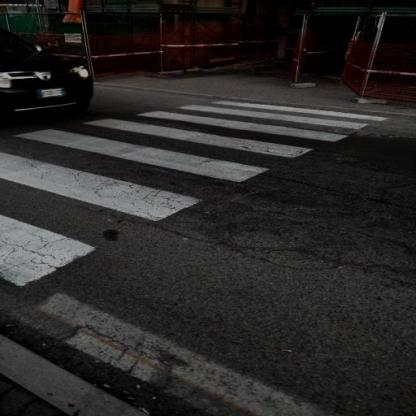crosswalk: (0, 114, 322, 185)
